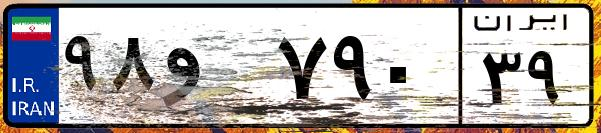0: (385, 28, 445, 110)
3: (475, 38, 525, 113)
7: (270, 28, 330, 110)
8: (110, 28, 158, 98)
9: (330, 28, 385, 110), (57, 26, 110, 100), (525, 38, 570, 115)
و: (158, 20, 270, 120)
